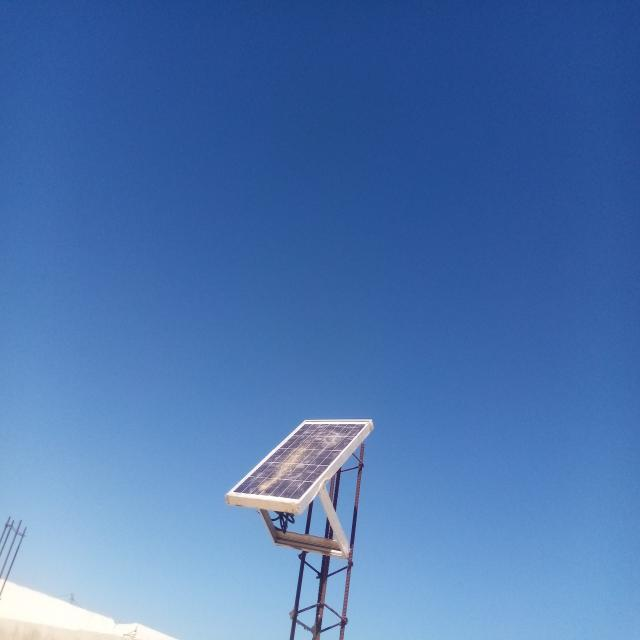faulty: (225, 419, 372, 505)
